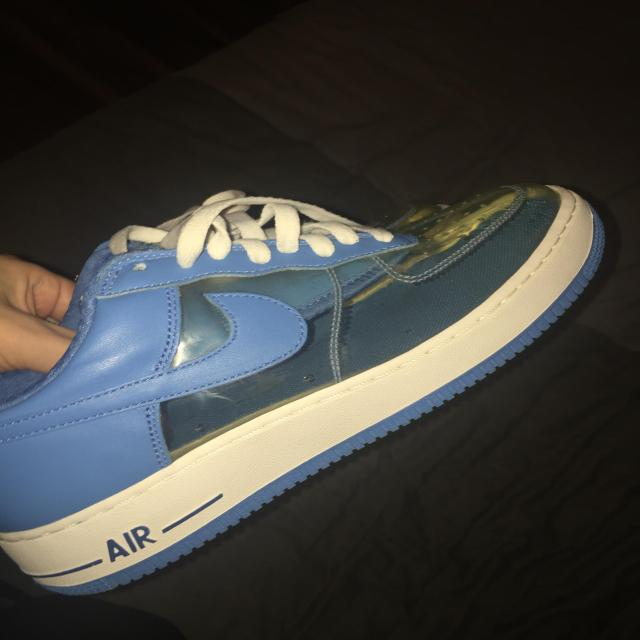shoe: (0, 135, 608, 640)
